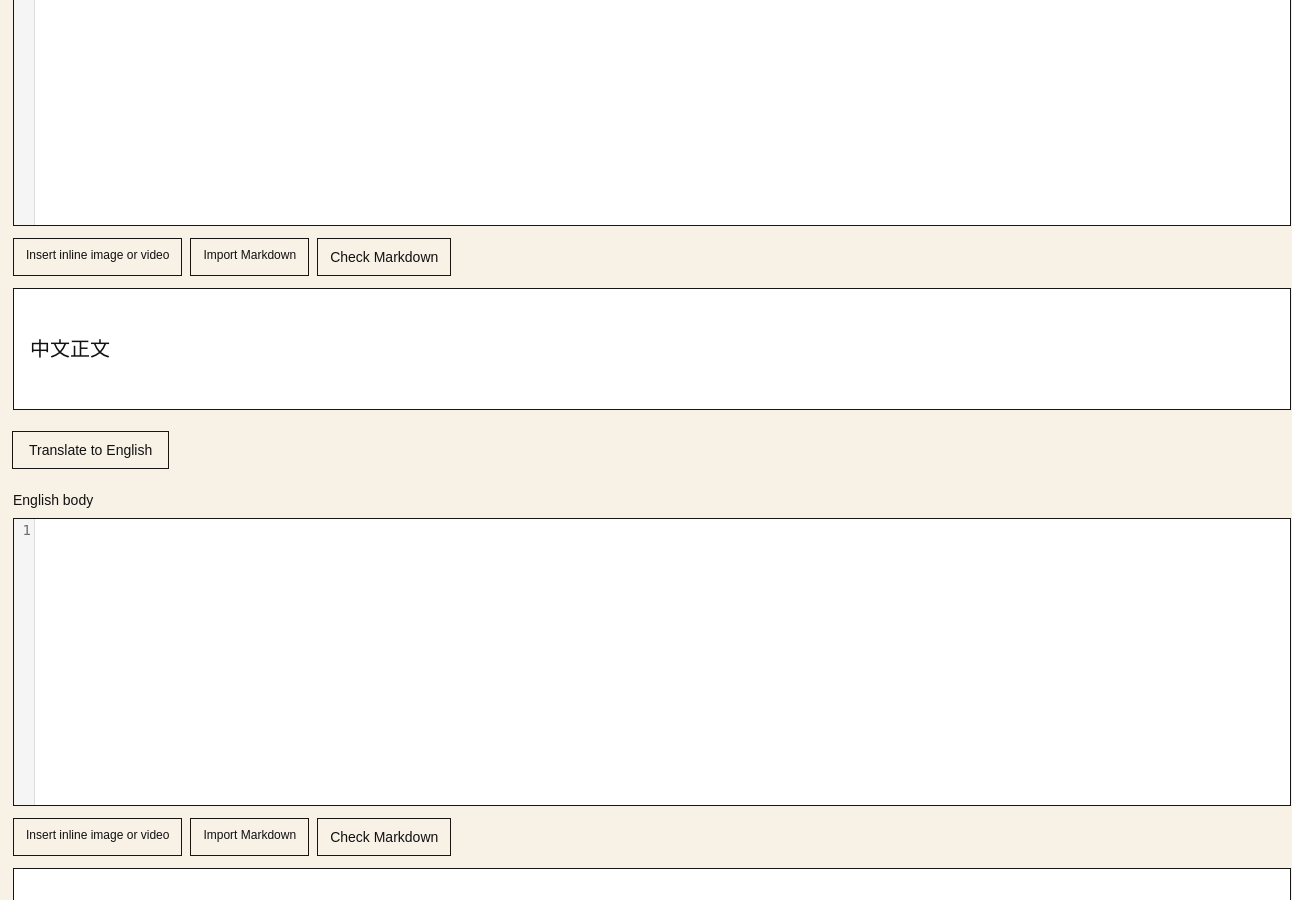
Test case: ArticleEditor › translates Chinese fields into English fields without saving
(page scrolled)
Click the button "Translate to English": (91, 450) [12,431,169,469]
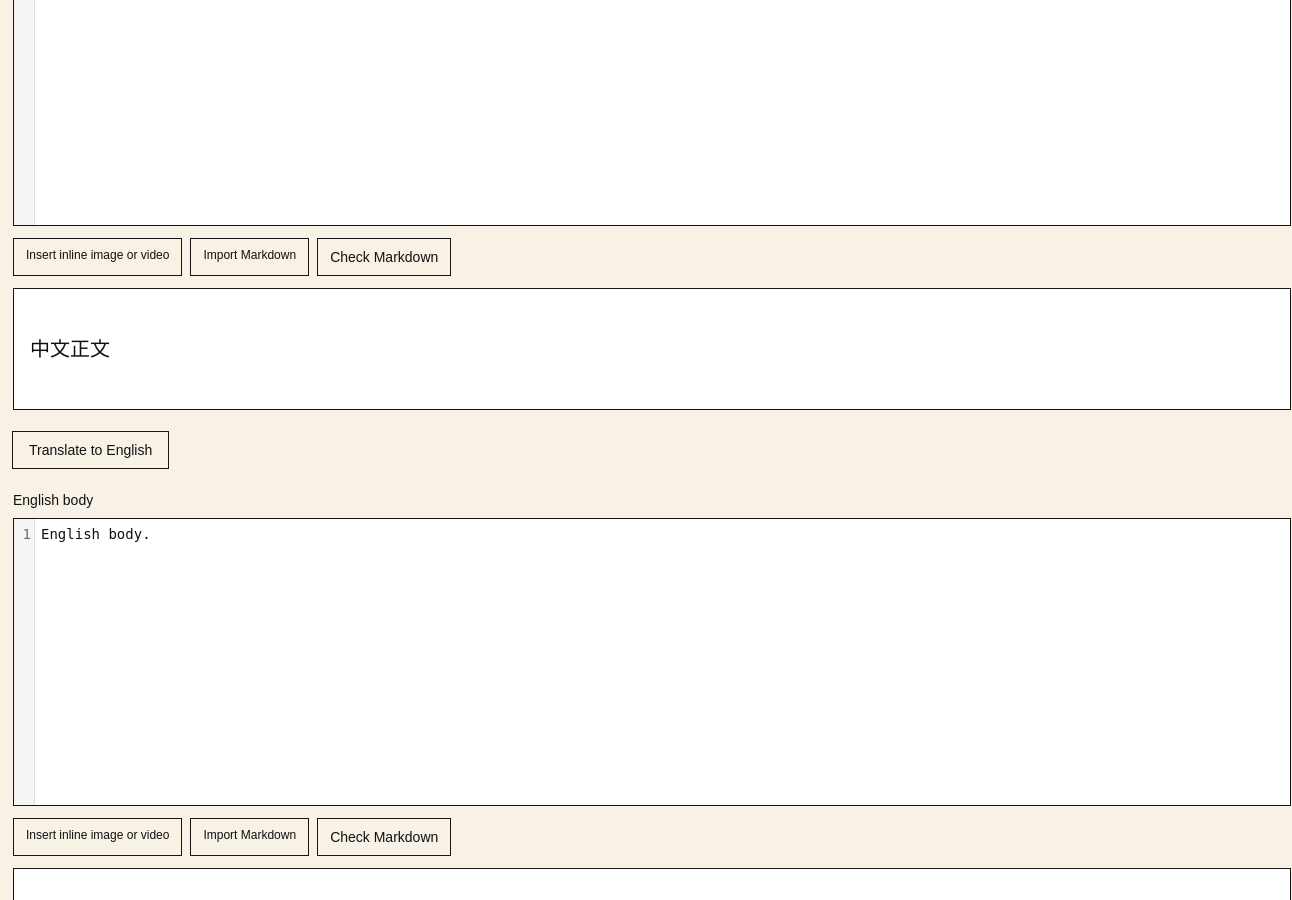
Now the field labelled "English body" reads "English body.", box [41,526,151,542]
